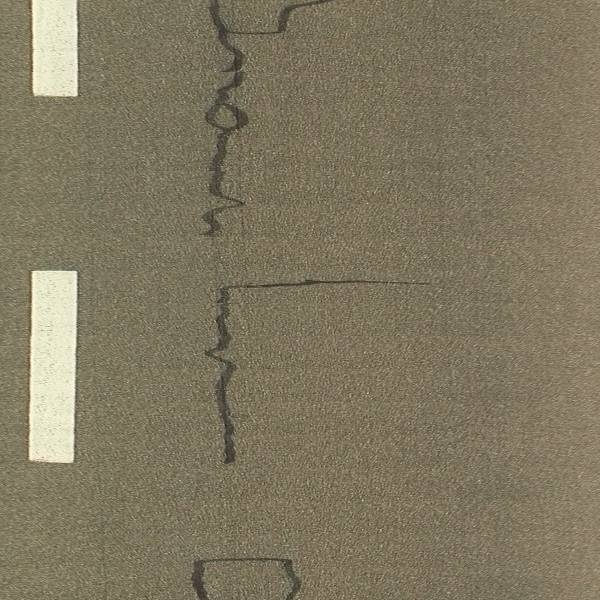road_damage: (196, 1, 344, 246), (202, 280, 236, 470), (185, 551, 306, 600), (226, 273, 435, 294)
